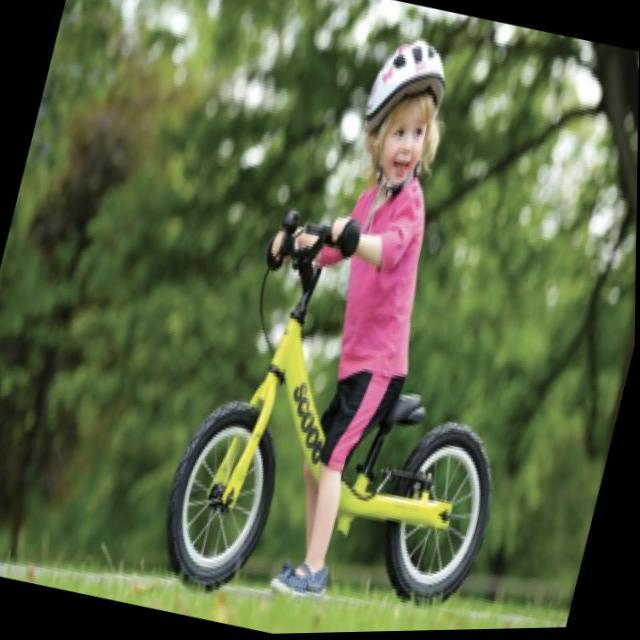Helmet: (350, 26, 452, 190)
